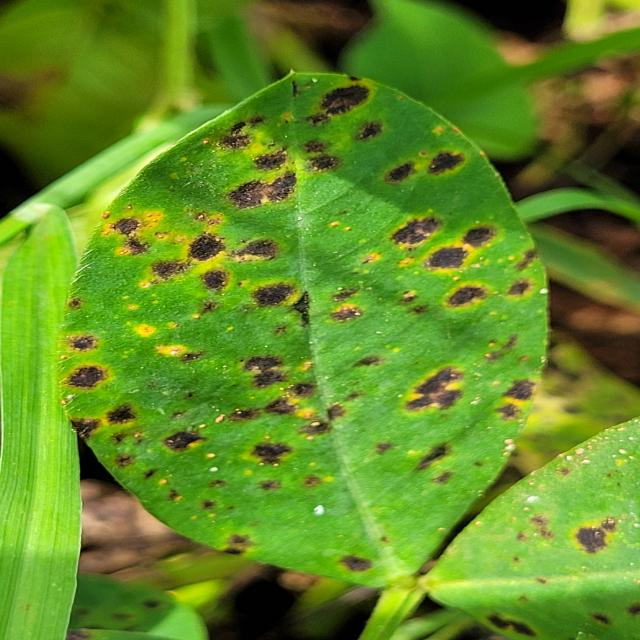Ground nut_tikka leaf spot: (69, 67, 553, 571)
